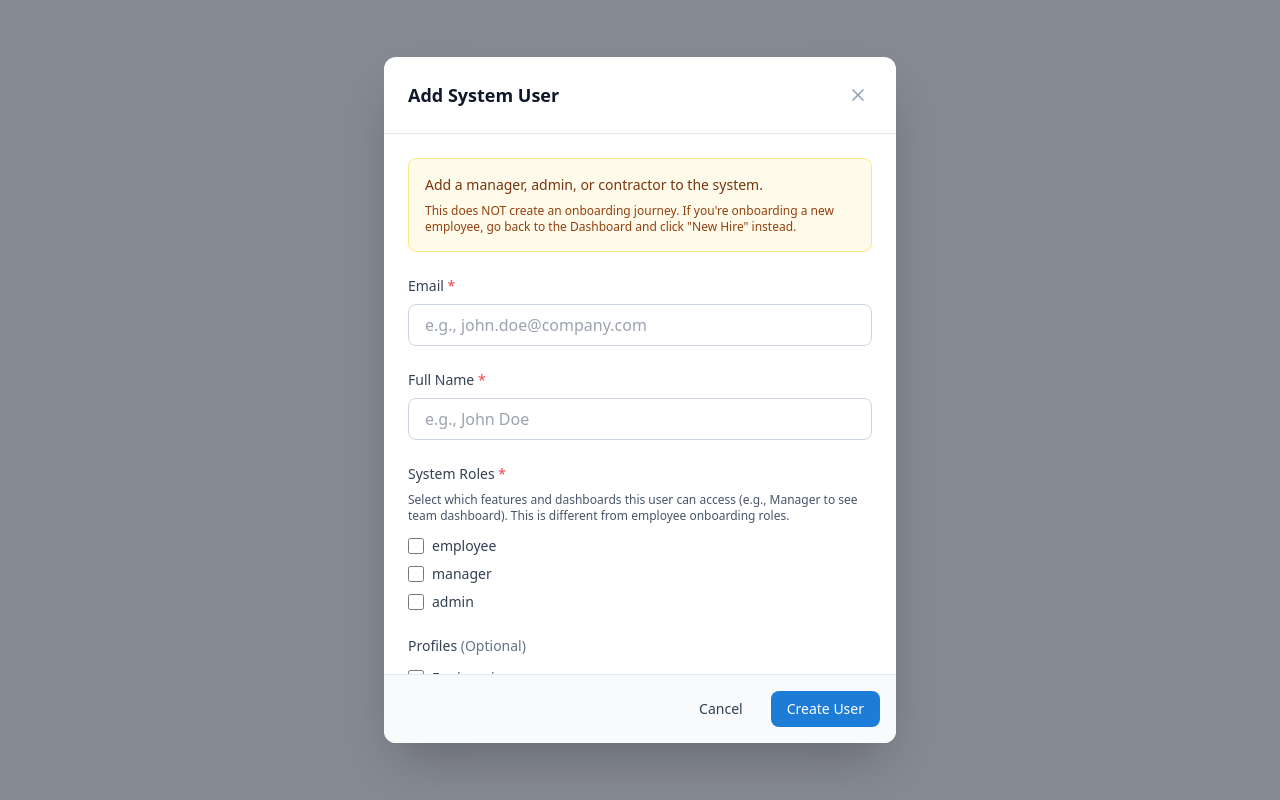
Test: UserModal › UserModal - create mode › should validate email field
This screenshot has width=1280, height=800.
Click the button labelled "Create User". click: point(825, 709)
box: [771,691,880,727]
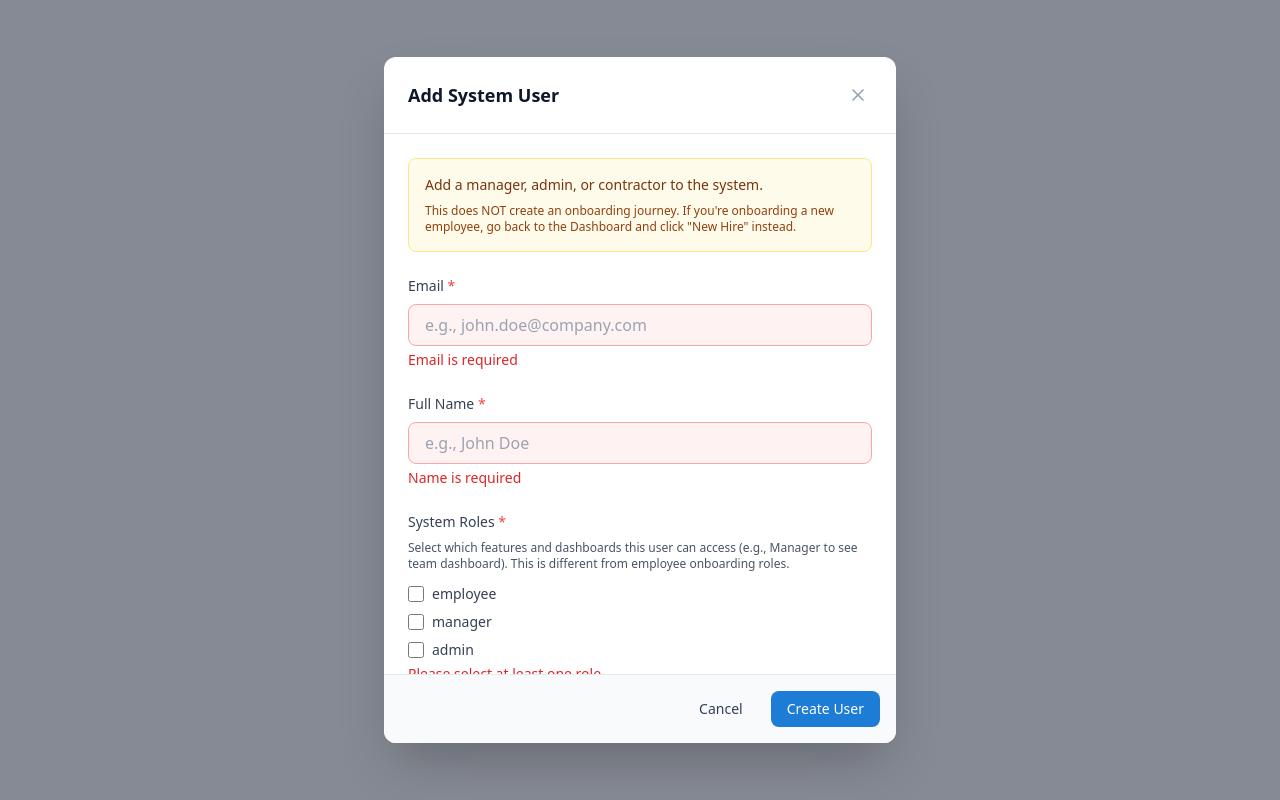
Result: the text "Email is required" is shown at [408,350,518,369]
